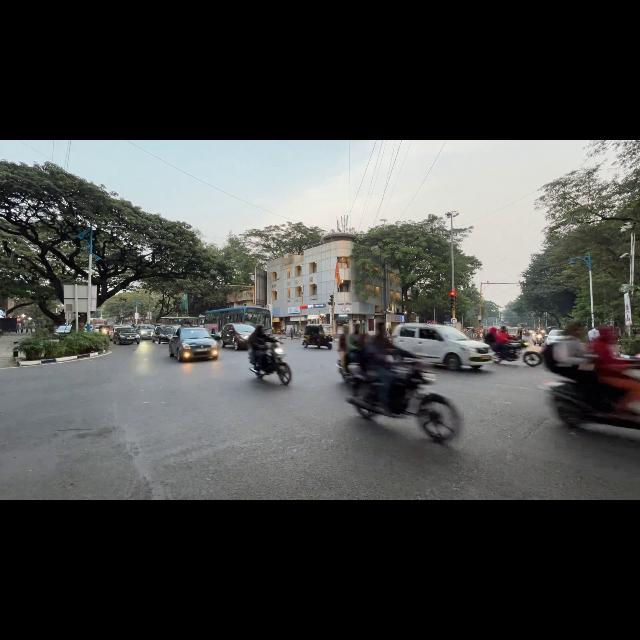bus: (205, 307, 271, 333), (160, 317, 199, 325)
car: (392, 324, 491, 369), (169, 327, 218, 361), (219, 324, 255, 350), (152, 325, 179, 343), (113, 327, 140, 344), (545, 330, 568, 345), (135, 324, 155, 339), (109, 325, 126, 340), (54, 325, 71, 338), (96, 325, 112, 335)
motorcycle: (389, 362, 460, 443), (541, 379, 639, 429), (249, 342, 291, 385), (493, 340, 542, 366), (336, 359, 358, 384), (532, 333, 545, 345)
